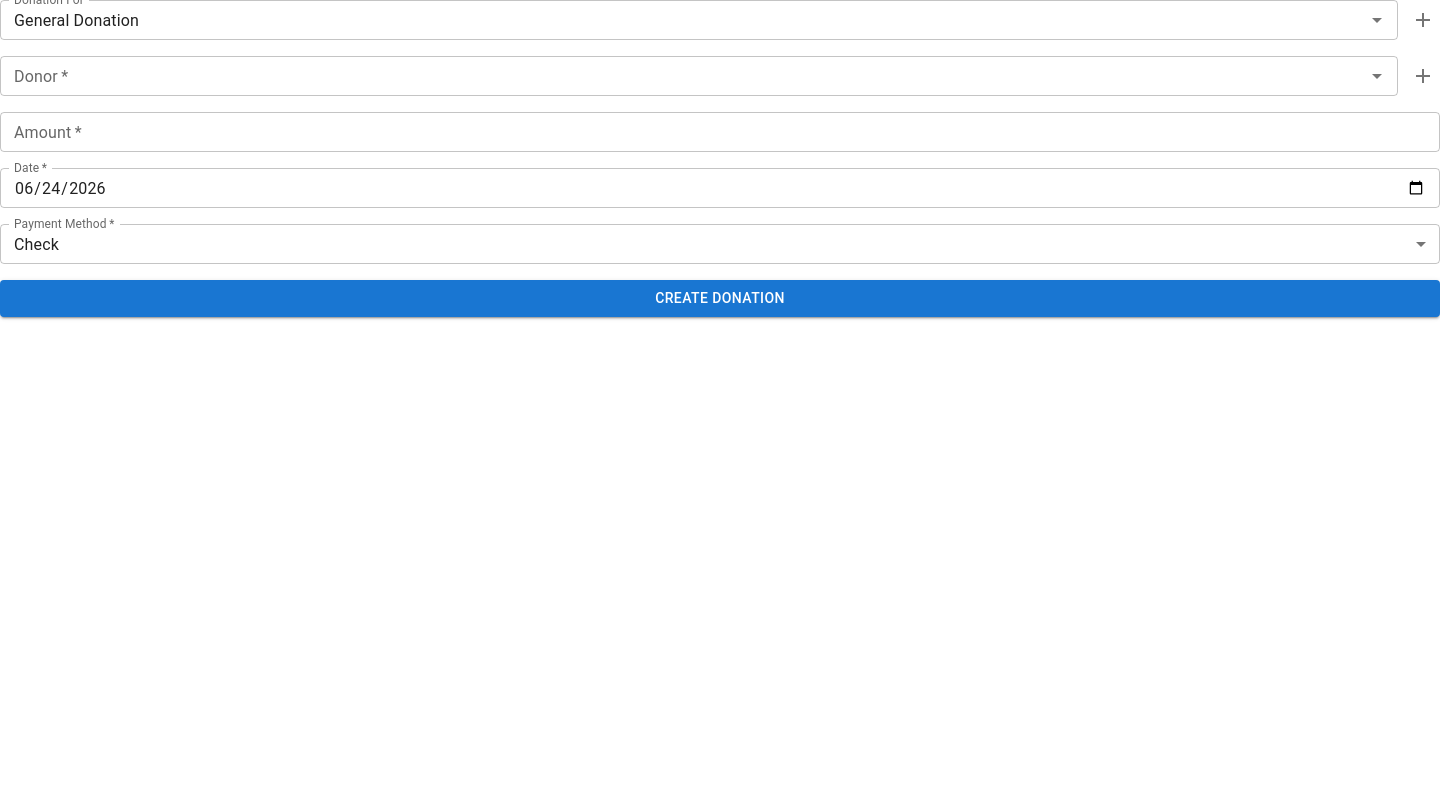
Test case: DonationForm › dialog can be canceled without losing donation form data
# Fill out donation form with data
Type "150" into the number field labelled "Amount *" at (720, 132), box [0, 112, 1439, 152]
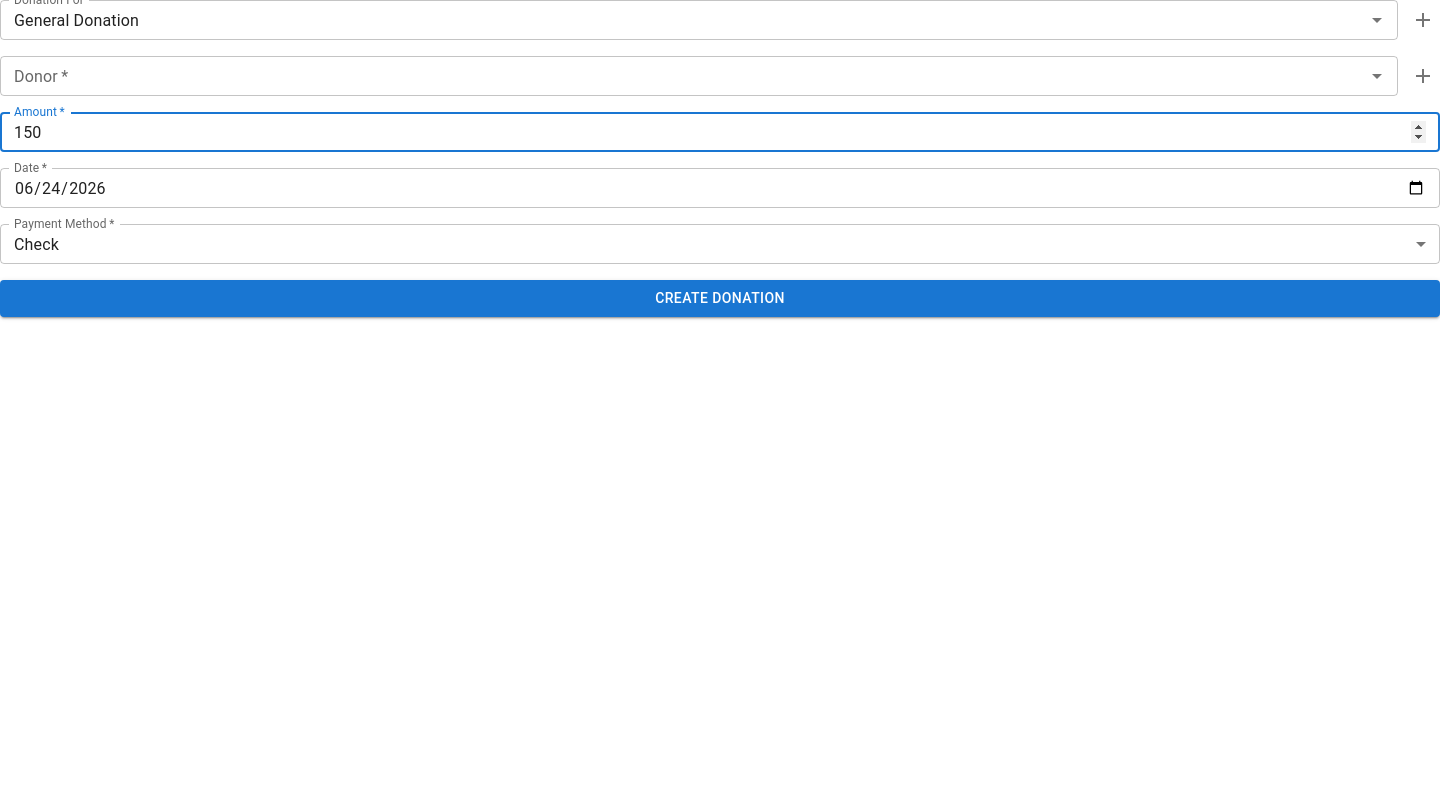
Click the button named "create donor" at (1423, 76), box [1406, 59, 1439, 93]
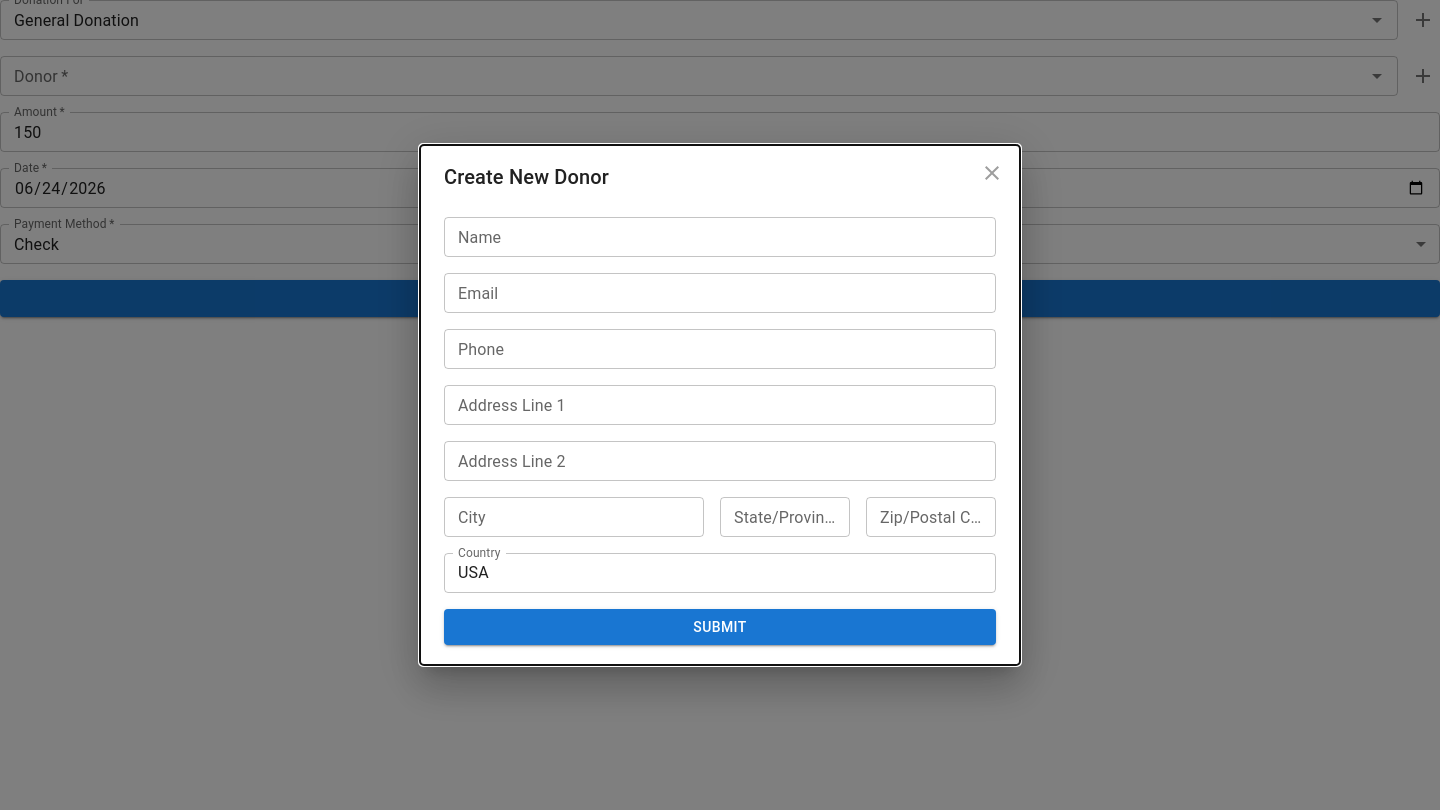
Result: the heading "Create New Donor" is shown at [420, 145, 1020, 209]
# Close dialog by pressing Escape
Press Escape
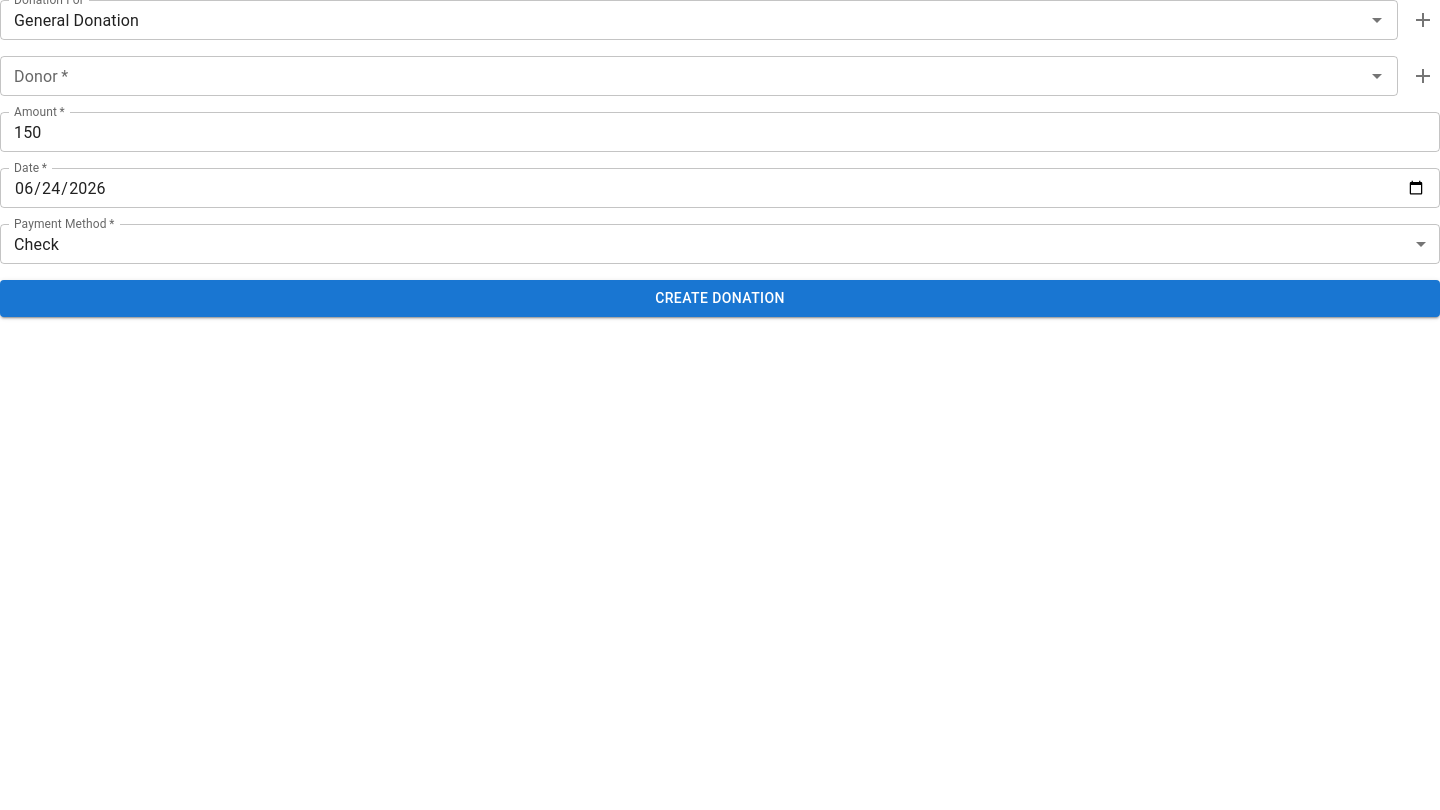
Result: the heading "Create New Donor" is gone
